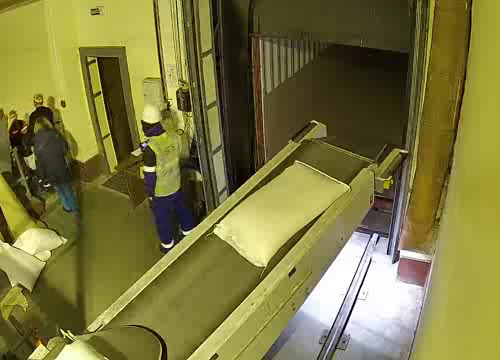bag: (208, 151, 362, 271), (40, 329, 116, 360)
